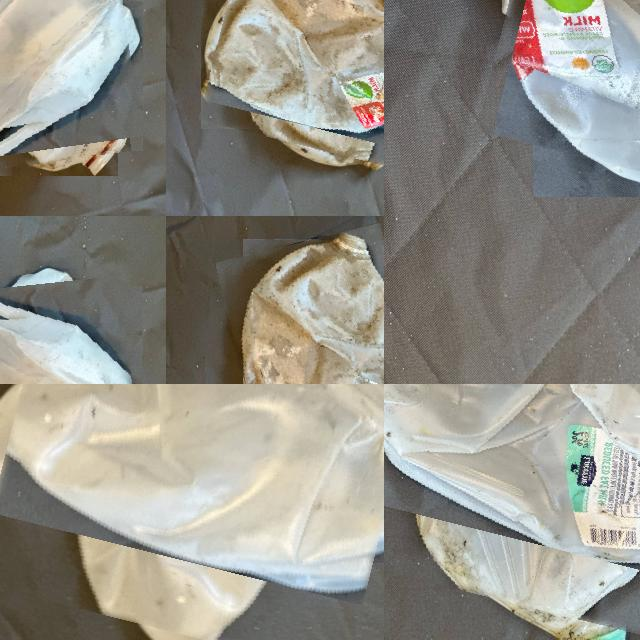milk-jug: (0, 384, 384, 640), (384, 384, 640, 633), (497, 0, 640, 202), (210, 0, 384, 160), (229, 231, 384, 384), (0, 0, 136, 170), (0, 270, 136, 384)
